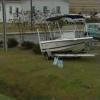Boat: (33, 13, 91, 63)
